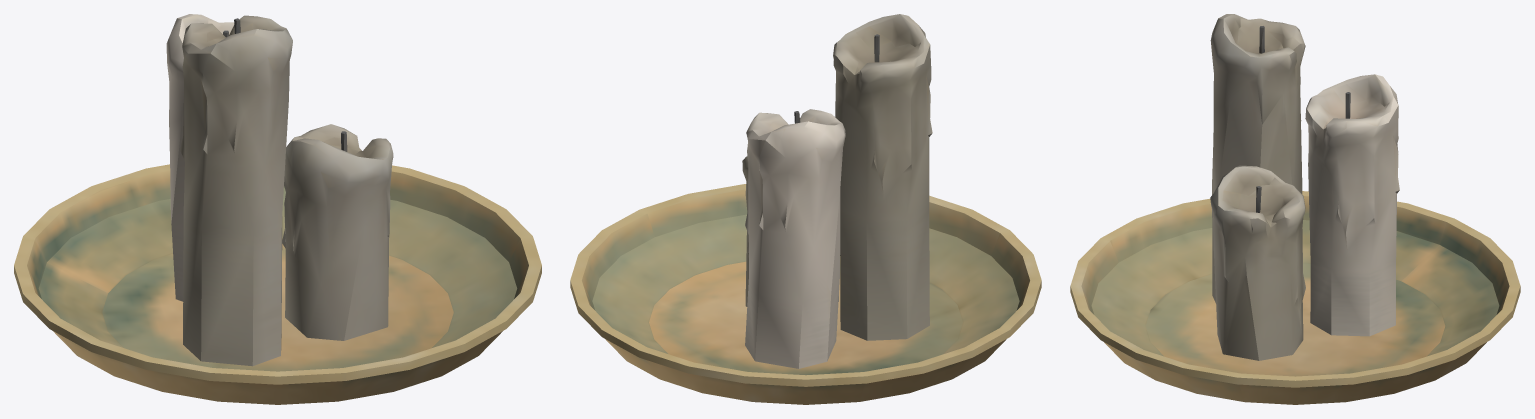
File: candlestick-branch-b.glb
3 renders of one model, left to right at view 1: azimuth 30°, elevation 25°; view 2: azimuth 150°, elevation 25°; view 3: azimuth 270°, elevation 25°, orthographic. The views are drawn at different scales.
Visible parts, largest first — view 1: candlestick-branch-b; view 2: candlestick-branch-b; view 3: candlestick-branch-b.
Boxes of the visible parts, x1,y1,x2,y2 form: candlestick-branch-b: (14,14,541,404); candlestick-branch-b: (570,14,1041,404); candlestick-branch-b: (1070,14,1520,404).
Bounding box in the file's own units: 0.106 × 0.0778 × 0.106.
Materials: 1 (1 with a texture image).
